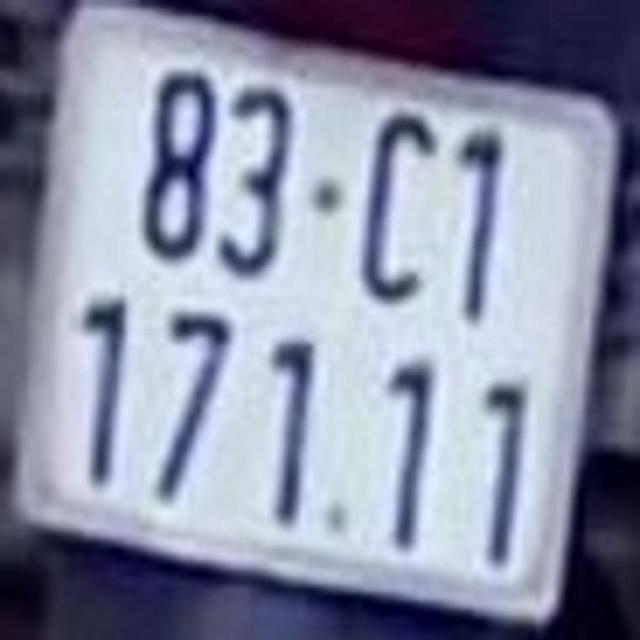1: (448, 118, 506, 324), (378, 360, 436, 554), (74, 289, 130, 489), (476, 377, 530, 578), (264, 333, 315, 524)
3: (219, 81, 290, 280)
7: (154, 305, 234, 504)
8: (140, 67, 215, 260)
C: (356, 108, 440, 303)
